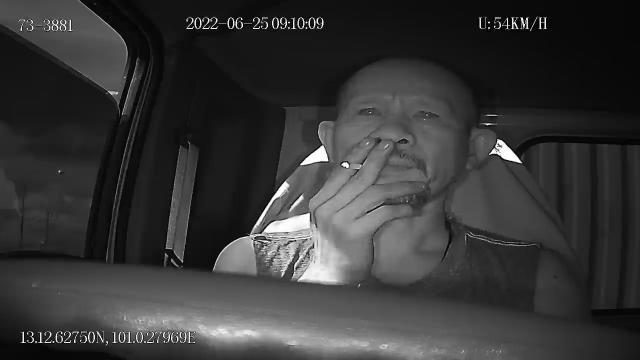SafeDriving: (407, 100, 446, 127), (350, 100, 387, 124)
Smoking: (342, 160, 362, 170)
